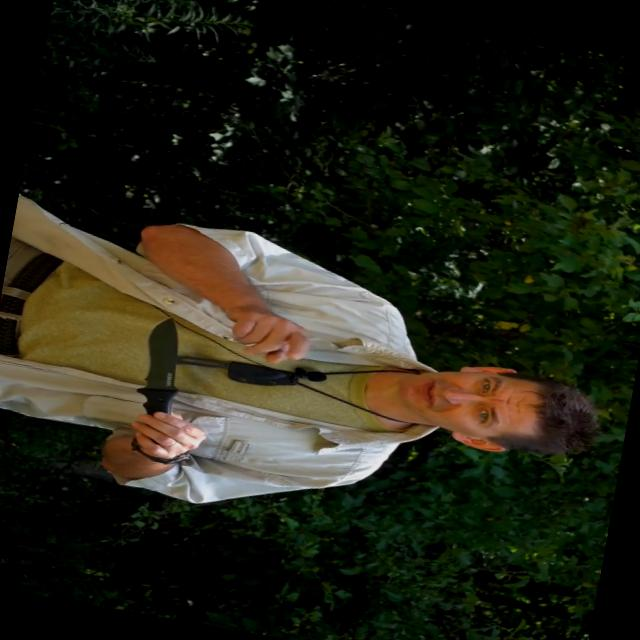knife: (117, 307, 229, 460)
